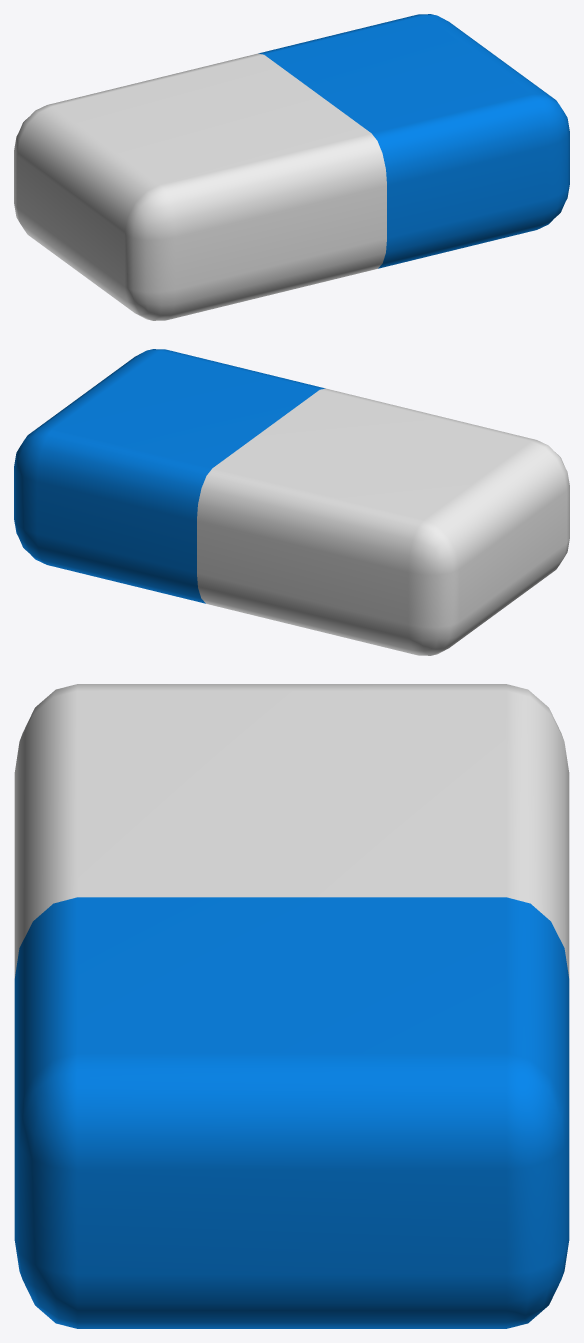
Rendered from earser (2).fbx.
The picture shows the model from 3 angles, top to bottom: view 1: azimuth 30°, elevation 25°; view 2: azimuth 150°, elevation 25°; view 3: azimuth 270°, elevation 25°; orthographic projection. The views are drawn at different scales.
Visible parts, largest first — view 1: pCube1; view 2: pCube1; view 3: pCube1.
Part boxes in pixels (bbox=[...]): pCube1: bbox=[14, 14, 569, 320]; pCube1: bbox=[14, 349, 569, 655]; pCube1: bbox=[14, 684, 569, 1328].
Bounding box in the file's own units: 2.77 × 0.8042 × 1.5.
